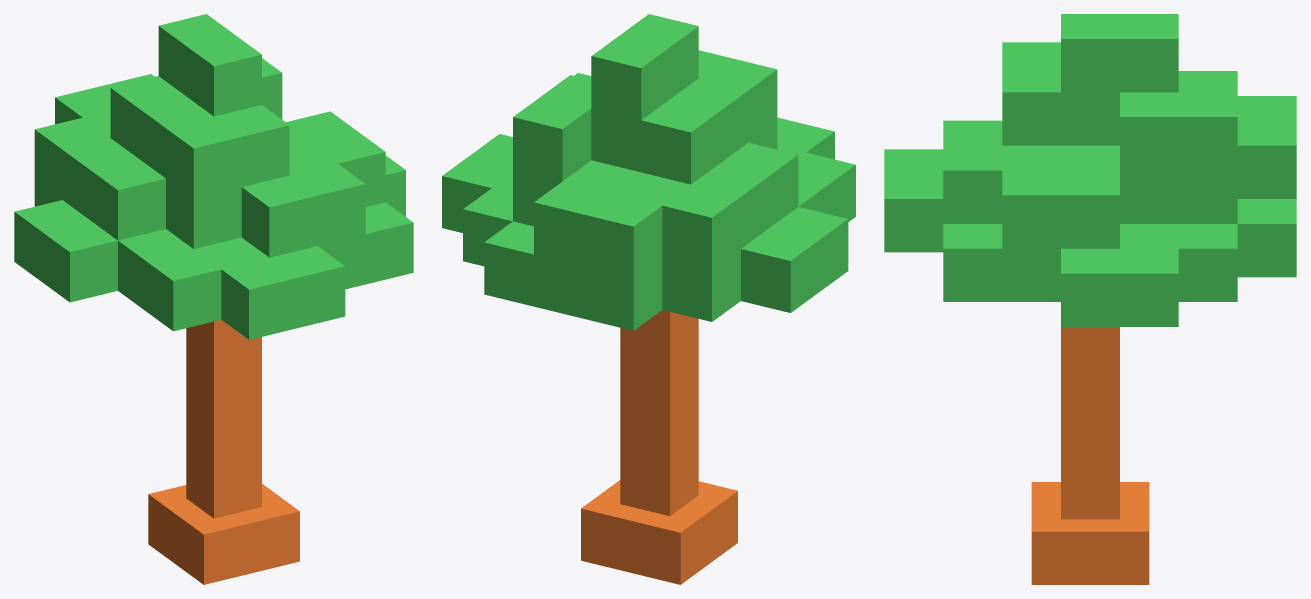
Rendered from outsideTree.fbx.
3 views of the same model, side by side, from view 1: azimuth 30°, elevation 25°; view 2: azimuth 150°, elevation 25°; view 3: azimuth 270°, elevation 25° (orthographic). The views are drawn at different scales.
Parts seen in each view (by area): view 1: default; view 2: default; view 3: default.
Boxes of the visible parts, bbox=[...] form: default: bbox=[14, 14, 413, 584]; default: bbox=[442, 14, 855, 584]; default: bbox=[884, 14, 1296, 584].
Size of the model in its own units: 28 by 40 by 28.
